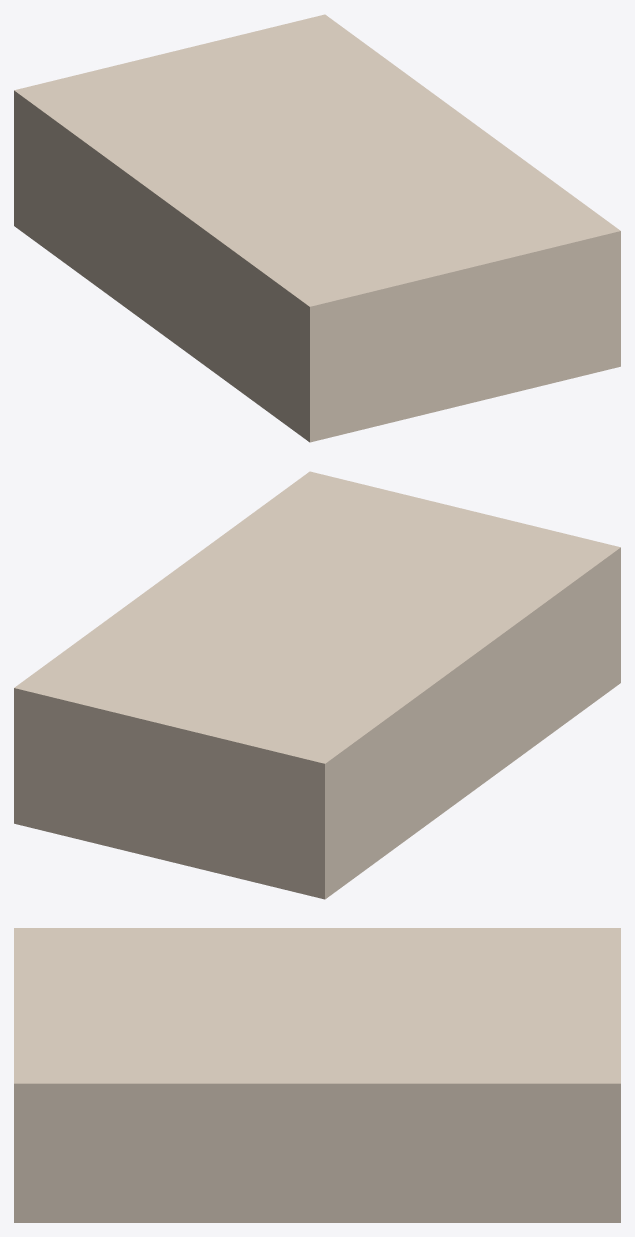
File: add_led.fbx
The picture shows the model from 3 angles, top to bottom: view 1: azimuth 30°, elevation 25°; view 2: azimuth 150°, elevation 25°; view 3: azimuth 270°, elevation 25°; orthographic projection. The views are drawn at different scales.
Visible parts, largest first — view 1: Cube; view 2: Cube; view 3: Cube.
Part boxes in pixels (<box>): Cube: <box>14,14,620,442</box>; Cube: <box>14,471,620,899</box>; Cube: <box>14,928,620,1222</box>.
Size of the model in its own units: 872 by 363 by 1437.
